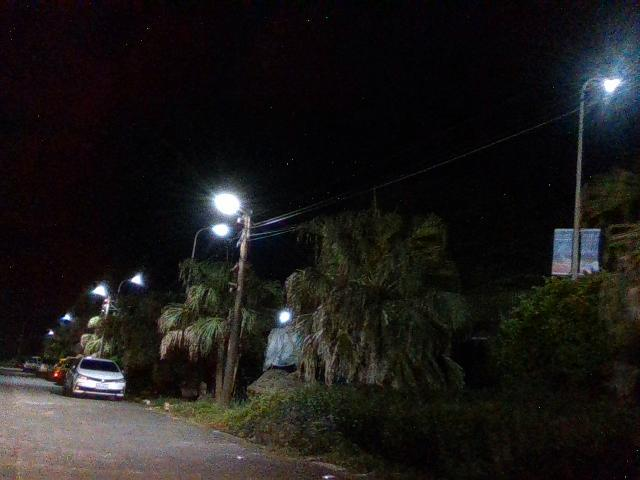pollute: (260, 319, 314, 372)
